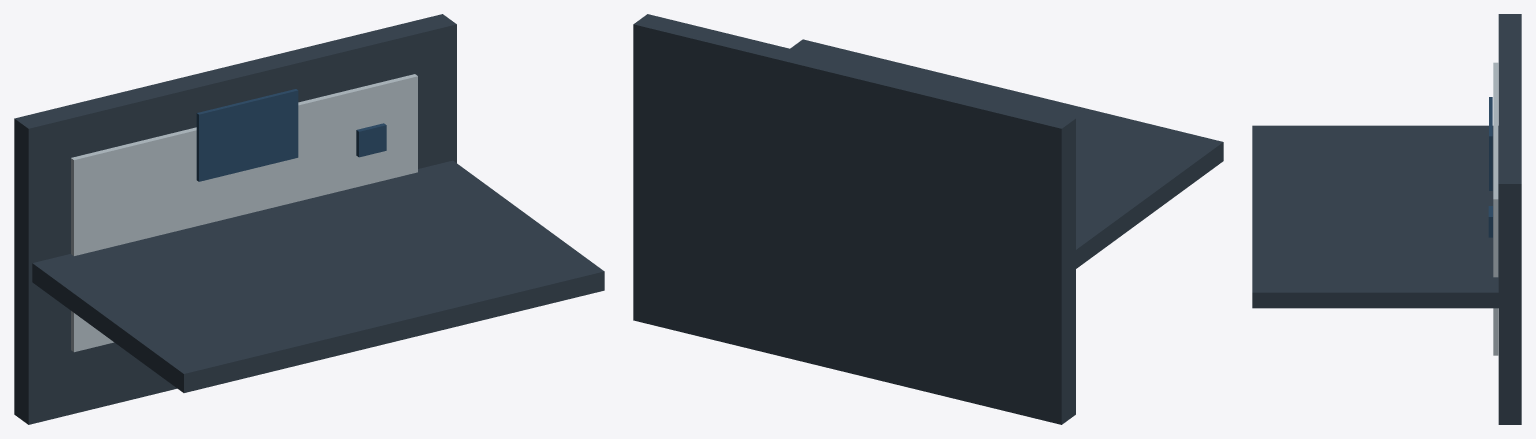
File: security_laptop.glb
3 views of the same model, side by side, from view 1: azimuth 30°, elevation 25°; view 2: azimuth 150°, elevation 25°; view 3: azimuth 270°, elevation 25° (orthographic). The views are drawn at different scales.
Visible parts, largest first — view 1: display_bezel, base, keyboard, trackpad, key; view 2: base, display_bezel; view 3: display_bezel, base, keyboard, trackpad.
Boxes of the visible parts, x1,y1,x2,y2 form: display_bezel: (32, 160, 604, 392); base: (14, 14, 456, 424); keyboard: (71, 74, 417, 352); trackpad: (196, 89, 298, 181); key: (356, 123, 386, 157); base: (633, 14, 1075, 424); display_bezel: (790, 39, 1223, 268); display_bezel: (1252, 125, 1498, 308); base: (1498, 14, 1521, 424); keyboard: (1493, 62, 1498, 355); trackpad: (1489, 97, 1492, 190).
Bounding box in the file's own units: 2.8 × 1.85 × 1.87.
